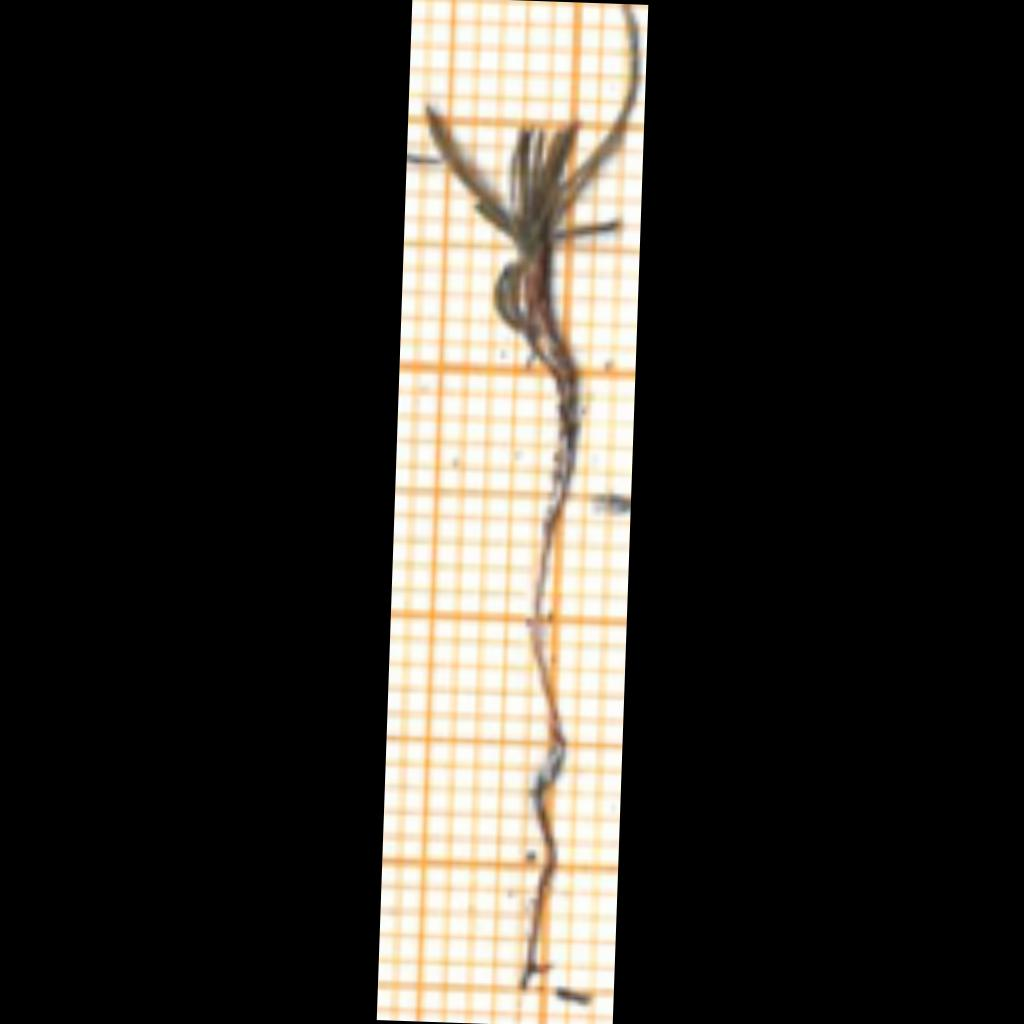flowerPinus: (426, 4, 639, 414)
rootPinus: (523, 479, 566, 985)
stemPinus: (554, 379, 578, 496)
